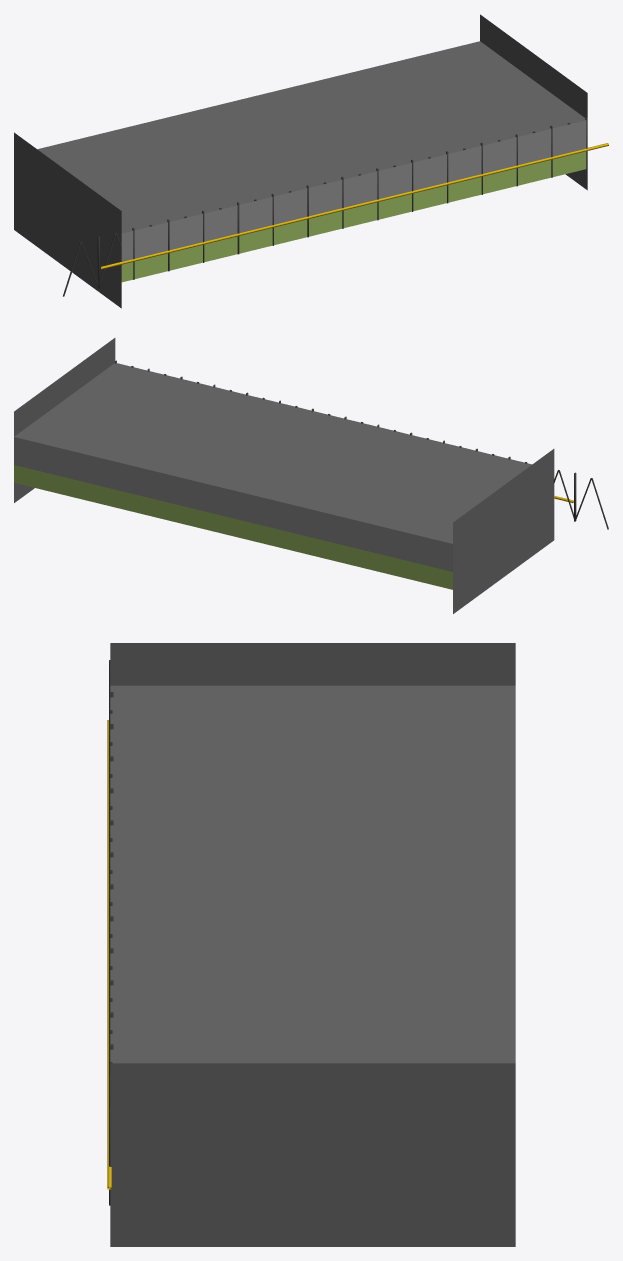
File: factory.glb
3 renders of one model, top to bottom at view 1: azimuth 30°, elevation 25°; view 2: azimuth 150°, elevation 25°; view 3: azimuth 270°, elevation 25°, orthographic. The views are drawn at different scales.
Visible parts, largest first — view 1: Roof, Wall, SideWallRight, SideWallLeft, Cube.001, Cube; view 2: Roof, BackWall, SideWallRight, SideWallLeft, Cube.001; view 3: Roof, SideWallLeft, SideWallRight, Cube.001, Cube.
Boxes of the visible parts, <box> form: Roof: <box>37,41,585,233</box>; Wall: <box>121,120,586,282</box>; SideWallRight: <box>14,132,121,308</box>; SideWallLeft: <box>480,14,587,190</box>; Cube.001: <box>63,117,587,296</box>; Cube: <box>101,143,608,269</box>; Roof: <box>14,363,531,543</box>; BackWall: <box>14,437,452,589</box>; SideWallRight: <box>453,449,554,613</box>; SideWallLeft: <box>14,338,115,502</box>; Cube.001: <box>115,360,608,529</box>; Roof: <box>110,685,515,1063</box>; SideWallLeft: <box>110,1063,515,1246</box>; SideWallRight: <box>110,643,515,685</box>; Cube.001: <box>109,660,113,1205</box>; Cube: <box>107,720,111,1189</box>.
Size of the model in its own units: 234 by 41.75 by 80.57.
3 materials, 3 textured.
